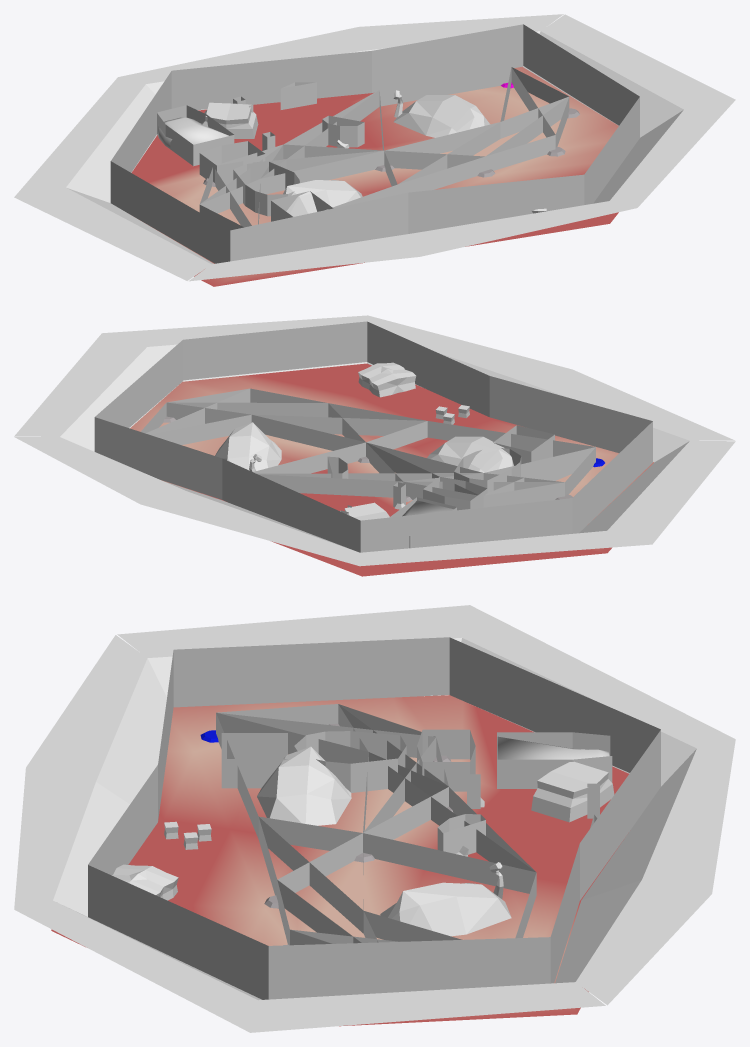
Rendered from Galaxy.fbx.
3 views of the same model, one above another, from view 1: azimuth 30°, elevation 25°; view 2: azimuth 150°, elevation 25°; view 3: azimuth 270°, elevation 25° (orthographic). The views are drawn at different scales.
Visible parts, largest first — view 1: GeometryWalls, Boundary, Pathfinding, GeometryGround, Decor Rock003, DecorBoundary Rock004.001, Decor Rock003.001, DecorBoundary Rock002, DecorBoundary Rock003, Decor Rock002, DecorBoundary Dish, DecorWire Rock001 (+2 smaller); view 2: Boundary, GeometryWalls, Pathfinding, GeometryGround, Decor Rock003, Decor Rock003.001, Decor Rock004, DecorBoundary Rock002, DecorBoundary Rock004, DecorBoundary Rock003, Decor Rock002; view 3: GeometryWalls, Boundary, GeometryGround, Pathfinding, Decor Rock003.001, Decor Rock003, DecorBoundary Rock004.001, DecorBoundary Rock003, Decor Rock002, DecorBoundary Rock004, DecorBoundary Rock002, DecorWire Rock001 (+2 smaller).
Part boxes in pixels (x1,y1,x2,y2): GeometryWalls: (14, 14, 735, 281); Boundary: (110, 24, 639, 263); Pathfinding: (199, 67, 569, 230); GeometryGround: (131, 66, 618, 286); Decor Rock003: (394, 95, 490, 137); DecorBoundary Rock004.001: (157, 105, 234, 166); Decor Rock003.001: (283, 180, 362, 216); DecorBoundary Rock002: (199, 141, 265, 185); DecorBoundary Rock003: (233, 161, 299, 216); Decor Rock002: (201, 102, 258, 138); DecorBoundary Dish: (322, 115, 364, 147); DecorWire Rock001: (157, 117, 228, 148); Boundary: (94, 321, 652, 552); GeometryWalls: (14, 315, 735, 566); Pathfinding: (141, 388, 595, 507); GeometryGround: (130, 363, 653, 576); Decor Rock003: (215, 422, 281, 470); Decor Rock003.001: (427, 436, 513, 472); Decor Rock004: (358, 362, 416, 397); DecorBoundary Rock002: (423, 477, 487, 510); DecorBoundary Rock004: (493, 425, 554, 463); DecorBoundary Rock003: (454, 448, 521, 492); Decor Rock002: (344, 502, 389, 520); GeometryWalls: (14, 605, 735, 1032); Boundary: (88, 637, 660, 999); GeometryGround: (51, 695, 628, 1026); Pathfinding: (216, 704, 536, 945); Decor Rock003.001: (257, 746, 351, 825); Decor Rock003: (380, 882, 511, 936); DecorBoundary Rock004.001: (497, 732, 612, 788); DecorBoundary Rock003: (294, 731, 406, 792); Decor Rock002: (531, 761, 614, 822); DecorBoundary Rock004: (221, 733, 287, 788); DecorBoundary Rock002: (417, 729, 475, 791); DecorWire Rock001: (497, 736, 609, 759).
Bounding box in the file's own units: 15828 × 1397 × 11288.
